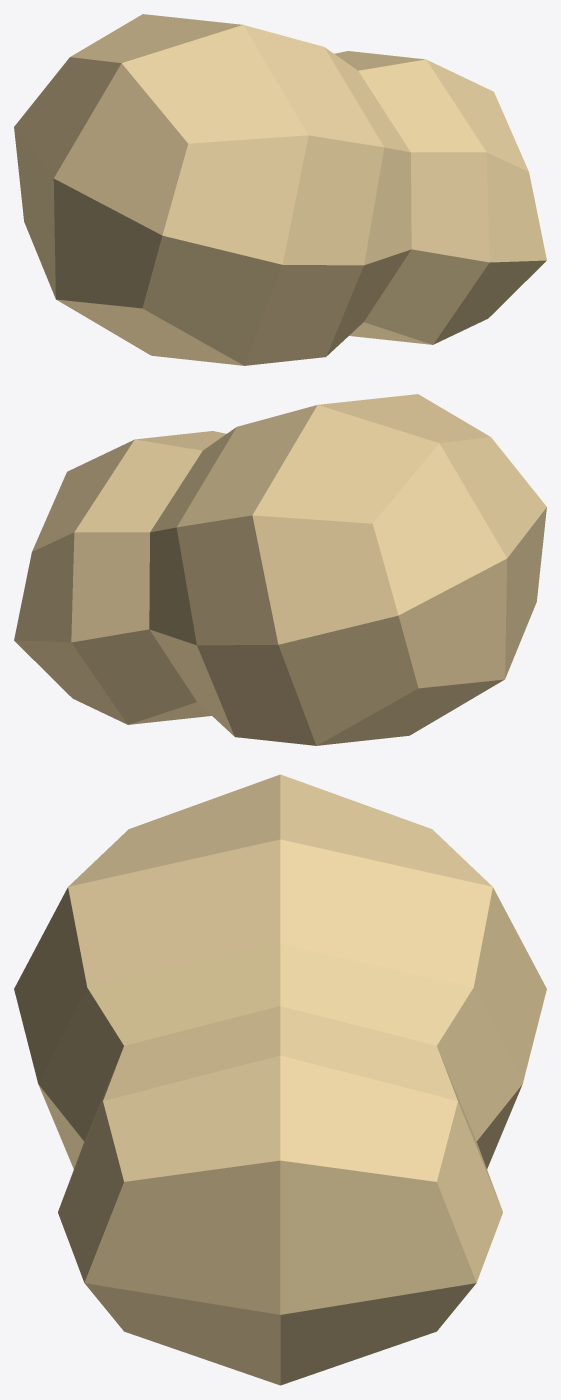
The model's file is cloud3.fbx.
The picture shows the model from 3 angles, top to bottom: view 1: azimuth 30°, elevation 25°; view 2: azimuth 150°, elevation 25°; view 3: azimuth 270°, elevation 25°; orthographic projection. The views are drawn at different scales.
Visible parts, largest first — view 1: cloud3; view 2: cloud3; view 3: cloud3.
Boxes of the visible parts, left/top/right/bottom form: cloud3: left=14, top=14, right=546, bottom=365; cloud3: left=14, top=394, right=546, bottom=745; cloud3: left=14, top=774, right=546, bottom=1385.
Bounding box in the file's own units: 1.79 × 1.29 × 1.44.
